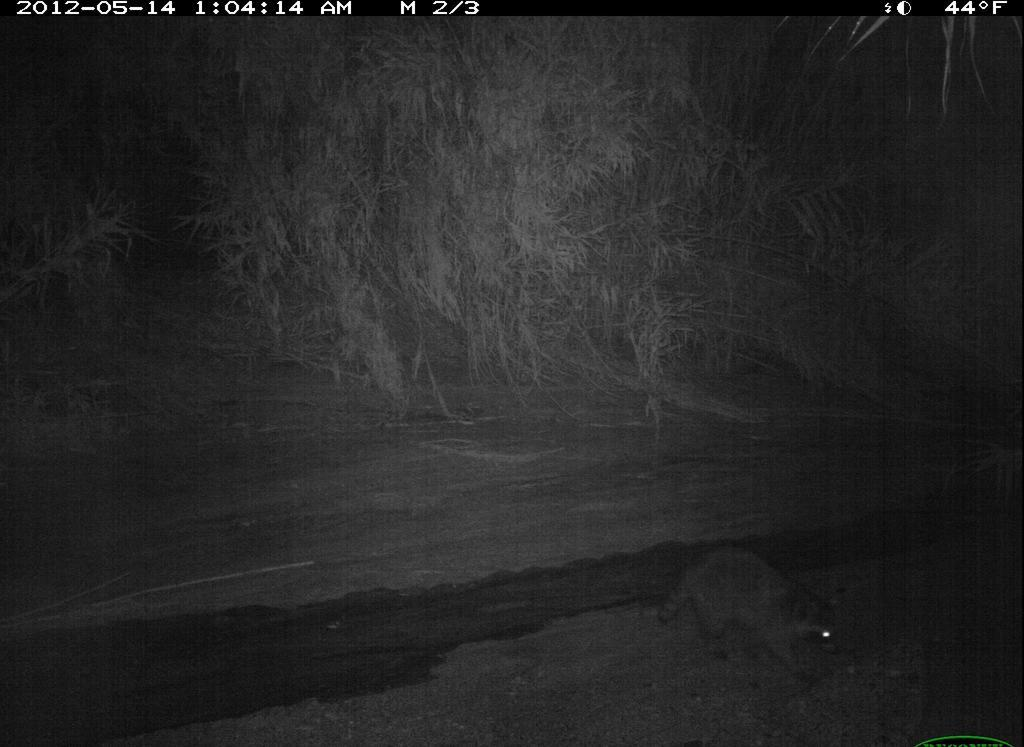raccoon: (653, 536, 850, 696)
